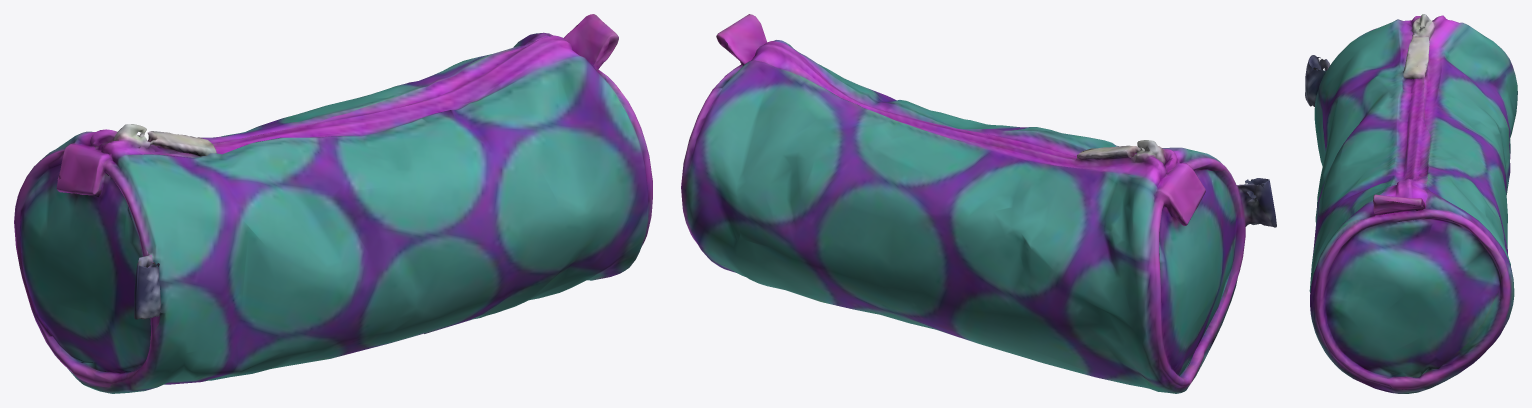
File: Big_Dot_Aqua_Pencil_Case-high.glb
3 views of the same model, side by side, from view 1: azimuth 30°, elevation 25°; view 2: azimuth 150°, elevation 25°; view 3: azimuth 270°, elevation 25° (orthographic). The views are drawn at different scales.
Visible parts, largest first — view 1: Big_Dot_Aqua_Pencil_Case; view 2: Big_Dot_Aqua_Pencil_Case; view 3: Big_Dot_Aqua_Pencil_Case.
Boxes of the visible parts, x1=… form: Big_Dot_Aqua_Pencil_Case: x1=14, y1=14, x2=652, y2=393; Big_Dot_Aqua_Pencil_Case: x1=681, y1=14, x2=1276, y2=393; Big_Dot_Aqua_Pencil_Case: x1=1305, y1=14, x2=1517, y2=393.
Size of the model in its own units: 0.2081 by 0.0961 by 0.0886.
1 material, 1 textured.
